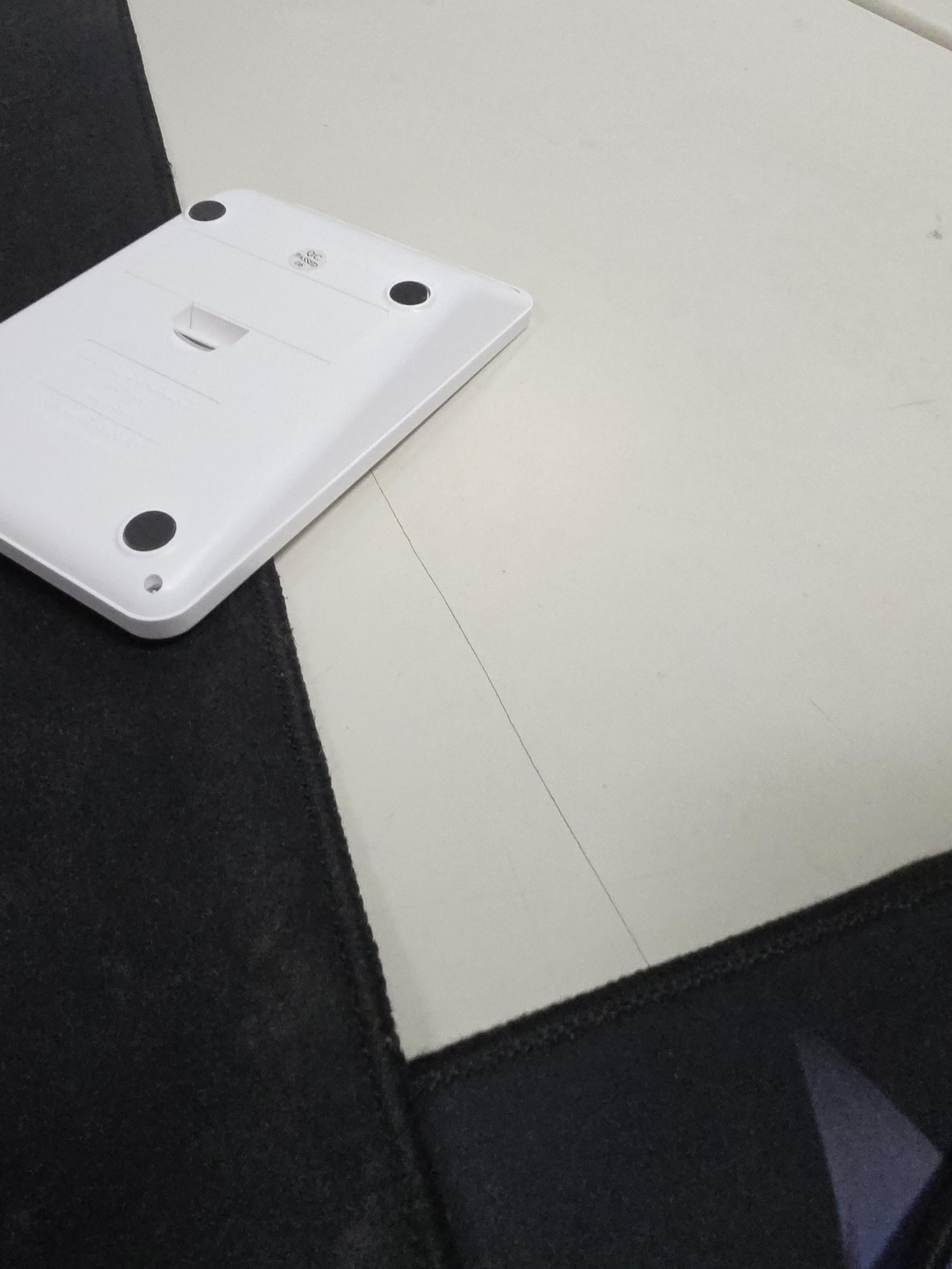calculator: (0, 188, 534, 641)
